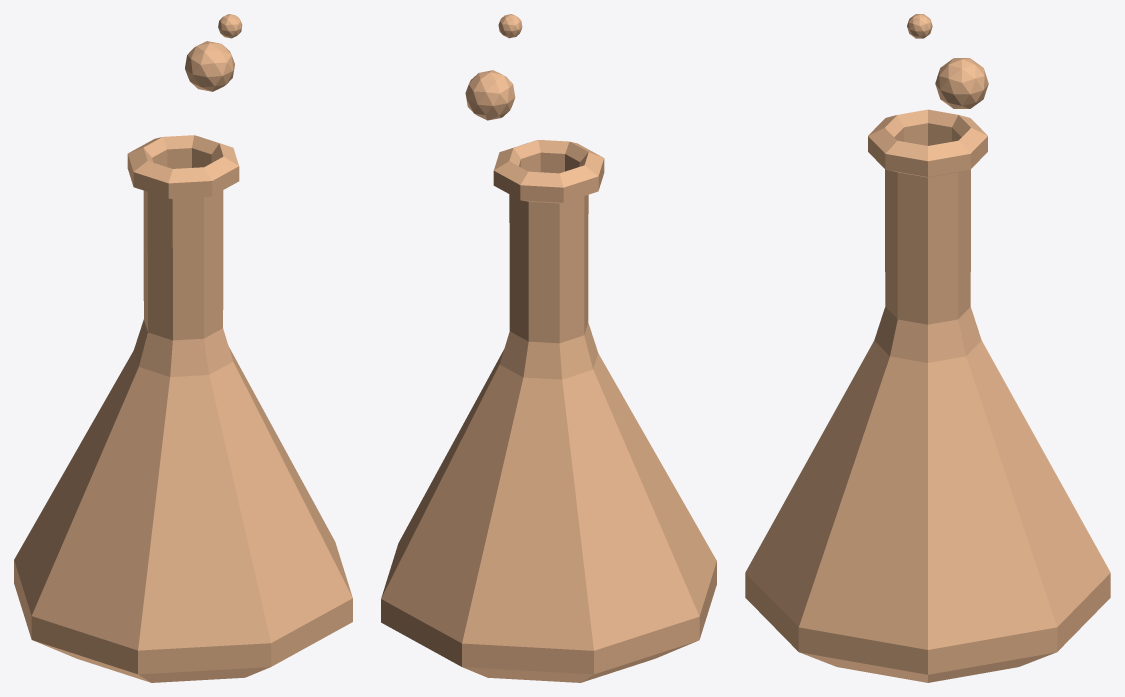
The model's file is chemistry.glb.
3 views of the same model, side by side, from view 1: azimuth 30°, elevation 25°; view 2: azimuth 150°, elevation 25°; view 3: azimuth 270°, elevation 25° (orthographic). The views are drawn at different scales.
Visible parts, largest first — view 1: Beaker_Icosphere; view 2: Beaker_Icosphere; view 3: Beaker_Icosphere.
Part boxes in pixels (x1,y1,x2,y2): Beaker_Icosphere: (14,14,352,682); Beaker_Icosphere: (381,14,716,682); Beaker_Icosphere: (745,14,1110,682).
Bounding box in the file's own units: 0.5211 × 1 × 0.5211.
